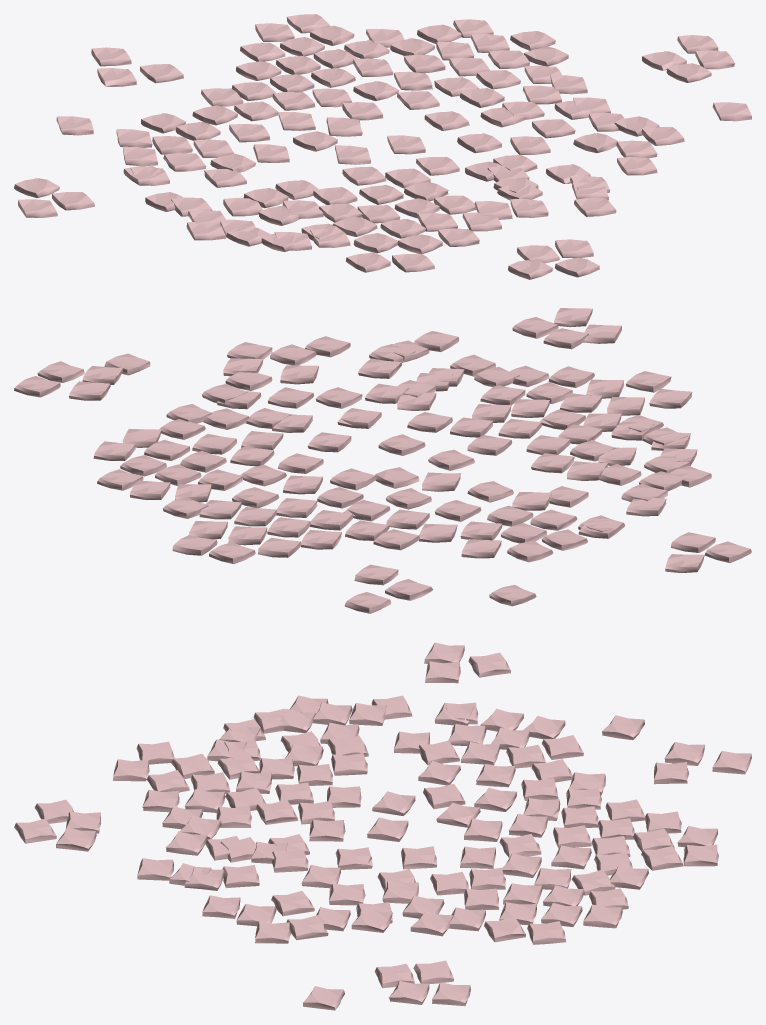
File: castle_island_nocol.dae
The picture shows the model from 3 angles, top to bottom: view 1: azimuth 30°, elevation 25°; view 2: azimuth 150°, elevation 25°; view 3: azimuth 270°, elevation 25°; orthographic projection. The views are drawn at different scales.
Visible parts, largest first — view 1: Cube.329; view 2: Cube.329; view 3: Cube.329.
Boxes of the visible parts, x1,y1,x2,y2 form: Cube.329: (14,14,751,279); Cube.329: (14,308,751,613); Cube.329: (14,642,751,1010).
Size of the model in its own units: 25.13 by 21.97 by 0.8295.
